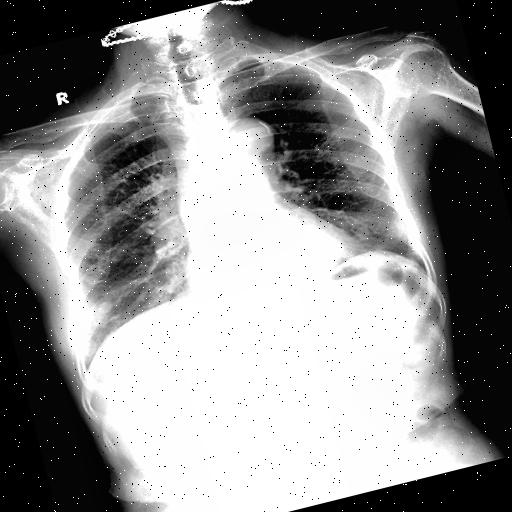0- Aortic enlargement: (214, 108, 284, 178), (204, 110, 280, 172), (216, 110, 282, 172)
11- Pleural thickening: (118, 89, 162, 104)
2- Calcification: (256, 118, 270, 136)
3- Cardiomegaly: (178, 214, 374, 308)
7- Lung Opacity: (96, 300, 114, 315)
8- Nodule-Mass: (96, 298, 116, 317)
